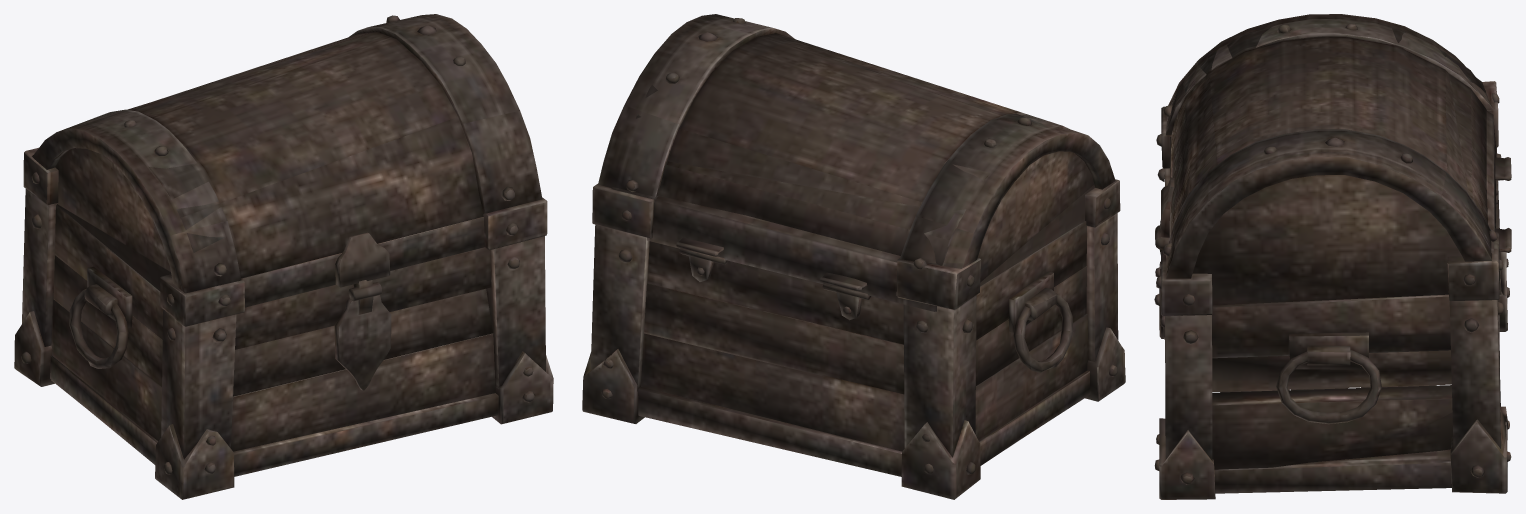
Rendered from d_trunk_small_A.glb.
3 renders of one model, left to right at view 1: azimuth 30°, elevation 25°; view 2: azimuth 150°, elevation 25°; view 3: azimuth 270°, elevation 25°, orthographic. The views are drawn at different scales.
Parts seen in each view (by area): view 1: d_trunk_small_A; view 2: d_trunk_small_A; view 3: d_trunk_small_A.
Boxes of the visible parts, <box> form: d_trunk_small_A: <box>14,14,553,499</box>; d_trunk_small_A: <box>582,14,1125,499</box>; d_trunk_small_A: <box>1154,14,1511,499</box>.
Size of the model in its own units: 0.6007 by 0.4843 by 0.4569.
Materials: 1 (1 with a texture image).
